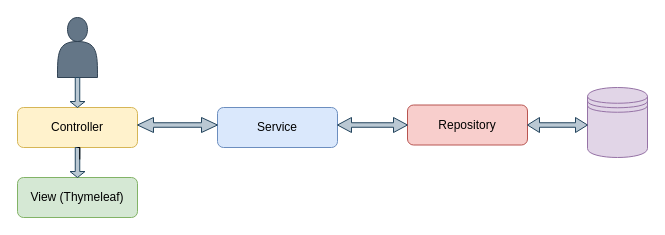
Image size: 665x235. Some labels were removed from this diagram. The shapes that lost their labels are listed below. From the top down, each one's centre as x and y in pixels, then its label:
pixel 77 47: User
pixel 617 122: MySQL DB
